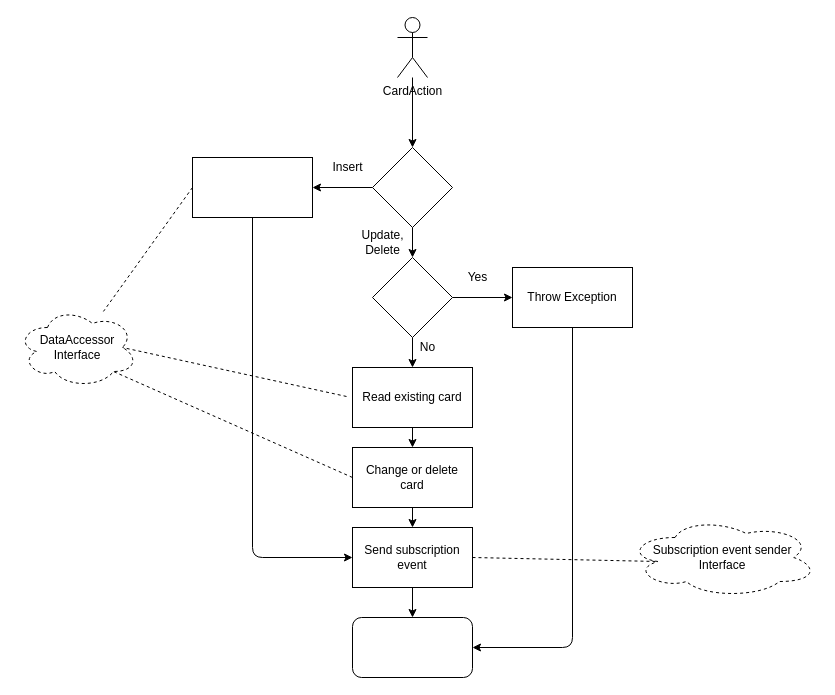
Some shapes in this 835 by 695 pixel diagram are drawn without their labels. Here are the shapes that lost their labels. From the top down, the centre of each, then its label:
point 252,187: InsertNewCard
point 412,187: Switch Action
point 412,297: CardId is empty?
point 412,647: Finish
